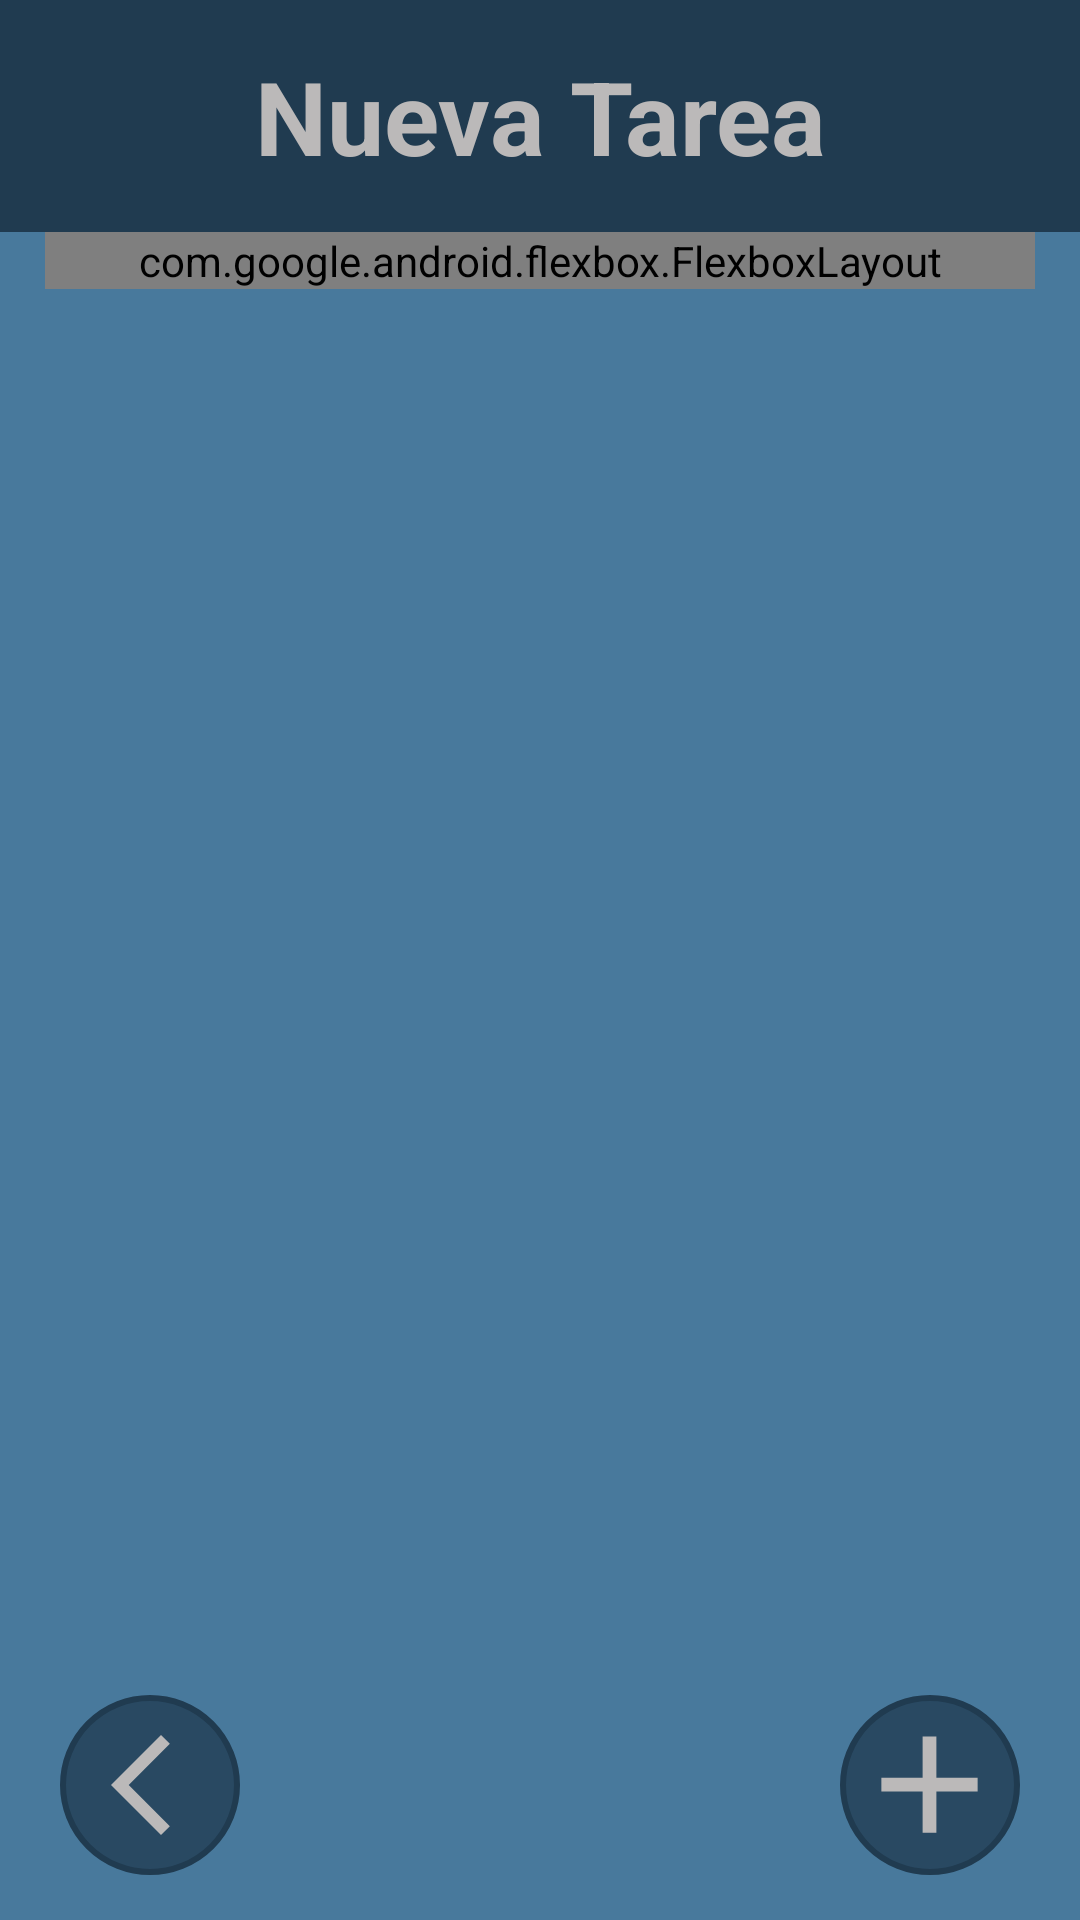

Screen size 1080w x 1920h. Icon name, then its box in pixels as (x1, y1, x2, y2):
add: (847, 1702, 1012, 1867)
flecha atras: (111, 1735, 170, 1835)
